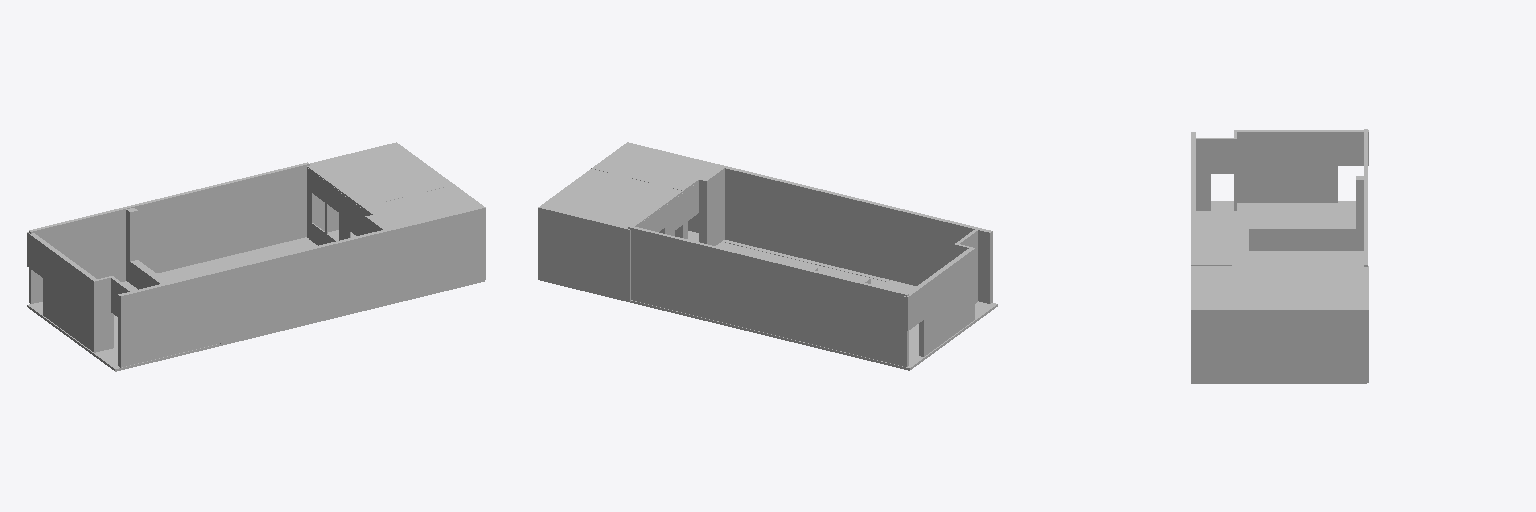
File: Class_Back.obj
3 views of the same model, side by side, from view 1: azimuth 30°, elevation 25°; view 2: azimuth 150°, elevation 25°; view 3: azimuth 270°, elevation 25° (orthographic).
Parts seen in each view (by area): view 1: polySurface1 pCube4, pCube30, pCube4 polySurface3, pCube35, pCube31, pCube34; view 2: polySurface1 pCube4, pCube30, pCube4 polySurface3, pCube35, pCube31; view 3: polySurface1 pCube4, pCube4 polySurface3, pCube35, pCube34, pCube30.
Part boxes in pixels (bbox=[...]): polySurface1 pCube4: bbox=[118, 142, 485, 367]; pCube30: bbox=[29, 162, 309, 303]; pCube4 polySurface3: bbox=[27, 232, 132, 352]; pCube35: bbox=[27, 237, 484, 371]; pCube31: bbox=[307, 168, 369, 245]; pCube34: bbox=[126, 208, 167, 289]; polySurface1 pCube4: bbox=[538, 142, 992, 303]; pCube30: bbox=[628, 226, 908, 366]; pCube4 polySurface3: bbox=[903, 229, 977, 356]; pCube35: bbox=[540, 242, 997, 370]; pCube31: bbox=[629, 182, 698, 300]; polySurface1 pCube4: bbox=[1191, 132, 1368, 382]; pCube4 polySurface3: bbox=[1196, 130, 1368, 210]; pCube35: bbox=[1191, 201, 1366, 383]; pCube34: bbox=[1249, 176, 1363, 250]; pCube30: bbox=[1364, 129, 1367, 266].
Bounding box in the file's own units: 14.32 × 2.8 × 5.98.